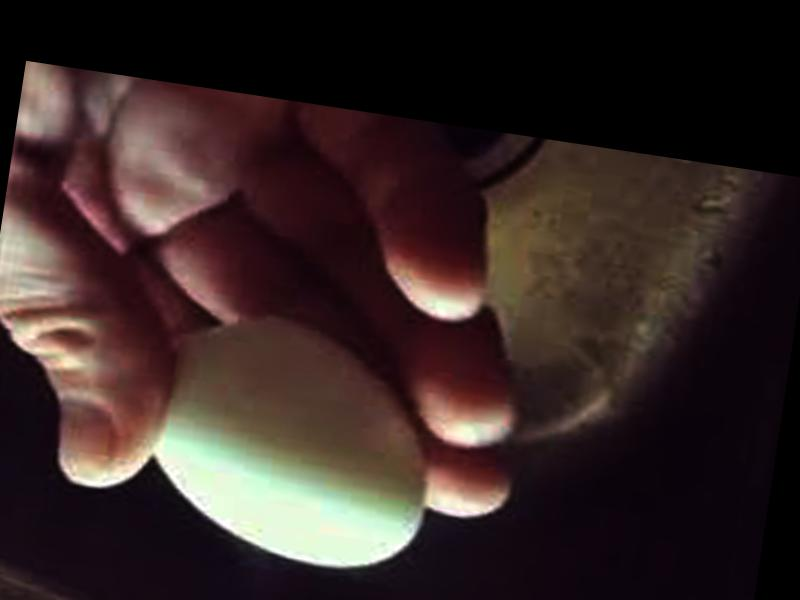Eggs: (138, 306, 449, 580)
